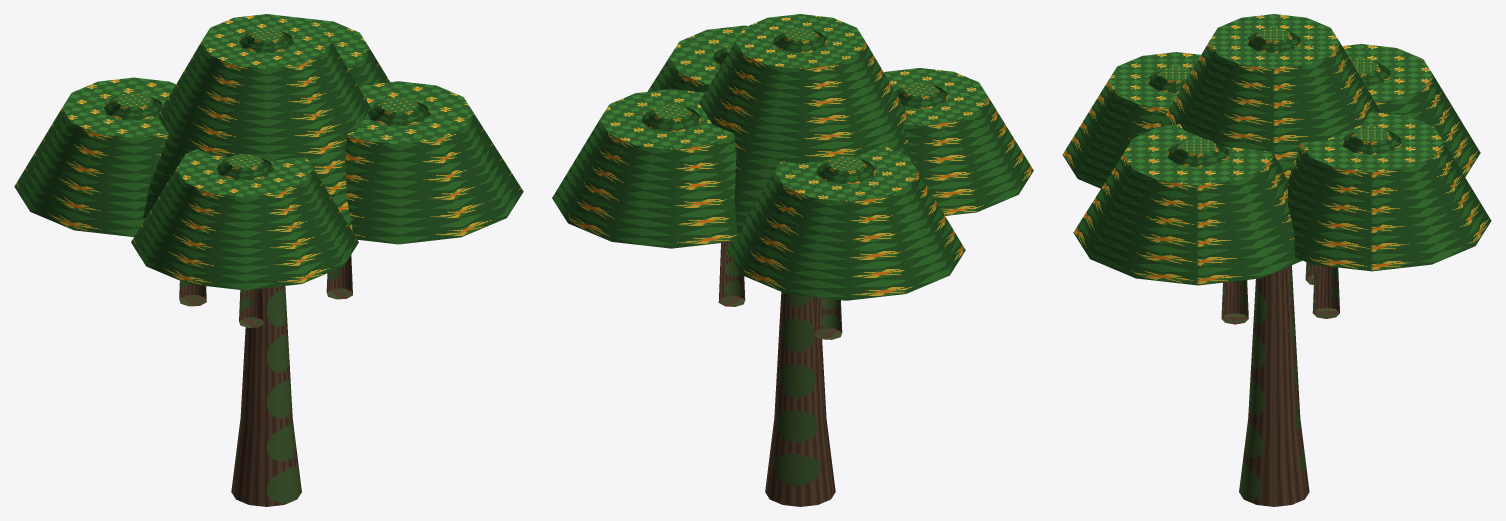
The model's file is champaka_tree.glb.
The picture shows the model from 3 angles, left to right: view 1: azimuth 30°, elevation 25°; view 2: azimuth 150°, elevation 25°; view 3: azimuth 270°, elevation 25°; orthographic projection.
Parts seen in each view (by area): view 1: Node_ChampakaTree; view 2: Node_ChampakaTree; view 3: Node_ChampakaTree.
Part boxes in pixels (x1=…): Node_ChampakaTree: x1=14, y1=14, x2=523, y2=506; Node_ChampakaTree: x1=552, y1=14, x2=1033, y2=506; Node_ChampakaTree: x1=1062, y1=14, x2=1491, y2=506.
Size of the model in its own units: 8.4 by 9.3 by 7.9.
Materials: 2 (2 with a texture image).
